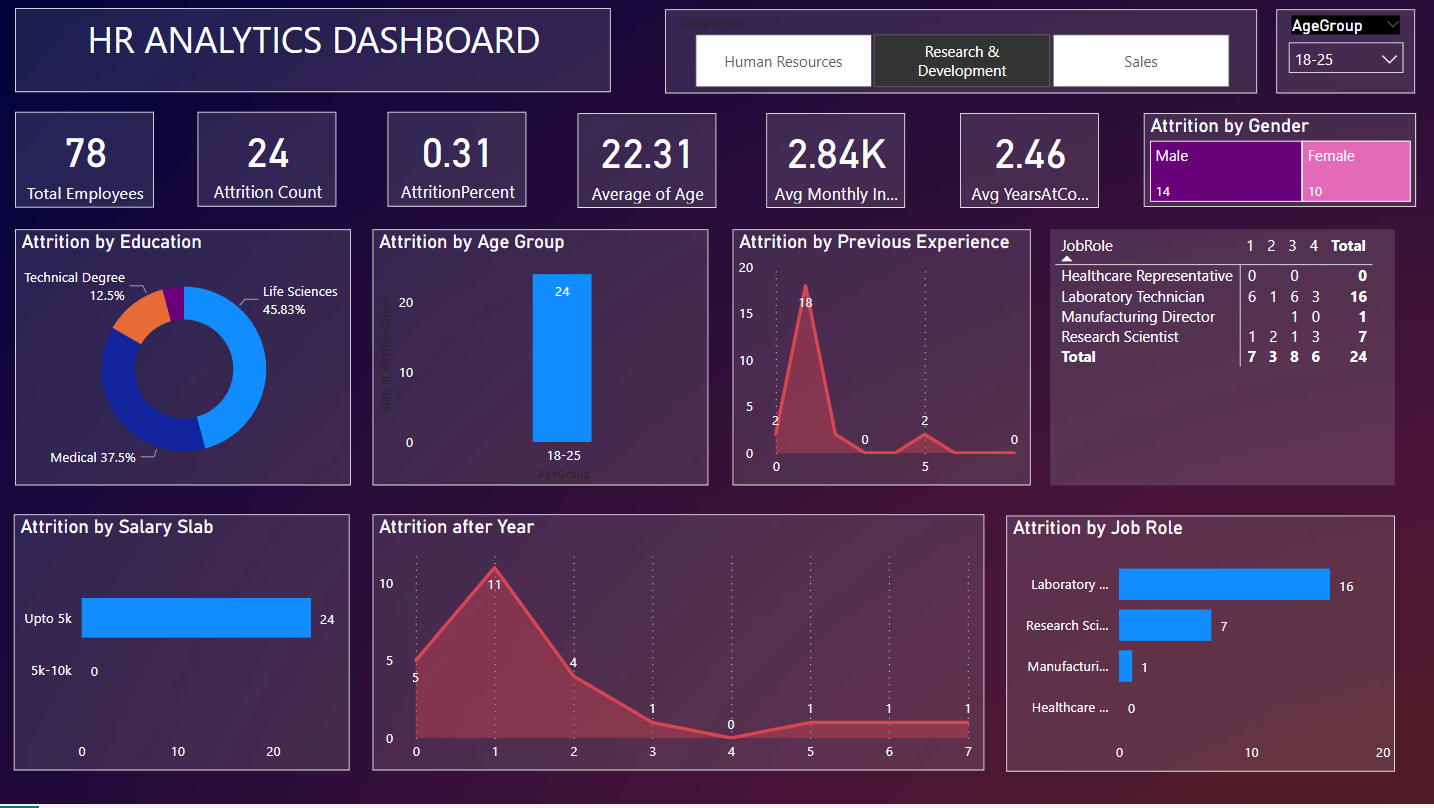

The dashboard page shown, as its layout file describes it:
{"tool":"powerbi","page":{"name":"Page 1","canvas":[1280,720],"ordinal":0},"visuals":[{"type":"card","fields":{"Values":["CountNonNull(HR_Analytics.EmpID)"]},"box":[13.9,101.1,124.3,86],"z":0},{"type":"card","fields":{"Values":["Sum(HR_Analytics.AttritionCount)"]},"box":[176.6,101.1,124.3,84.8],"z":1000},{"type":"card","fields":{"Values":["HR_Analytics.AttritionPercent"]},"box":[346.3,101.1,124.3,84.8],"z":2000},{"type":"card","fields":{"Values":["Avg(HR_Analytics.Age)"]},"box":[515.7,102.7,123.9,84.8],"z":3000},{"type":"card","fields":{"Values":["Avg(HR_Analytics.MonthlyIncome)"]},"box":[684.3,102.7,123.9,84.8],"z":4000},{"type":"card","fields":{"Values":["Avg(HR_Analytics.YearsAtCompany)"]},"box":[857.5,102.3,124.3,84.8],"z":5000},{"type":"donutChart","title":"Attrition by Education","fields":{"Category":["HR_Analytics.EducationField"],"Y":["Sum(HR_Analytics.AttritionCount)"]},"box":[13.4,206.7,300,228.9],"z":6000},{"type":"columnChart","title":"Attrition by Age Group","fields":{"Y":["Sum(HR_Analytics.AttritionCount)"],"Category":["HR_Analytics.AgeGroup"]},"box":[332.3,206.8,299.8,228.9],"z":7000},{"type":"pivotTable","fields":{"Rows":["HR_Analytics.JobRole"],"Columns":["HR_Analytics.JobSatisfaction"],"Values":["Sum(HR_Analytics.AttritionCount)"]},"box":[937.7,206.8,307.9,228.9],"z":8000},{"type":"clusteredBarChart","title":"Attrition by Salary Slab","fields":{"Category":["HR_Analytics.SalarySlab"],"Y":["Sum(HR_Analytics.AttritionCount)"]},"box":[12.8,461.3,300,228.9],"z":9000},{"type":"barChart","title":"Attrition by Job Role","fields":{"Category":["HR_Analytics.JobRole"],"Y":["Sum(HR_Analytics.AttritionCount)"]},"box":[898.2,462.5,347.4,228.9],"z":10000},{"type":"areaChart","title":"Attrition after Year","fields":{"Y":["Sum(HR_Analytics.AttritionCount)"],"Category":["HR_Analytics.YearsAtCompany"]},"box":[332.3,461.3,546.1,228.9],"z":11000},{"type":"treemap","title":"Attrition by Gender","fields":{"Group":["HR_Analytics.Gender","HR_Analytics.YearsAtCompany"],"Values":["Sum(HR_Analytics.AttritionCount)"]},"box":[1021.4,102.3,242.8,83.7],"z":12000},{"type":"slicer","fields":{"Values":["HR_Analytics.Department"]},"box":[593.8,10.5,528.7,75.5],"z":13000},{"type":"slicer","fields":{"Values":["HR_Analytics.AgeGroup"]},"box":[1139.9,10.5,124.3,75.5],"z":14000},{"type":"textbox","box":[13.9,9.3,532.2,75.5],"z":15000},{"type":"areaChart","title":"Attrition  by Previous Experience","fields":{"Y":["Sum(HR_Analytics.AttritionCount)"],"Category":["HR_Analytics.NumCompaniesWorked"]},"box":[654.2,206.8,266.1,228.9],"z":15001}]}

Visuals, with their boxes in screenshot pixels (x1, y1, x2, y2), scaled from the page's 1280x720 canvas onto the 1434x808 screenshot:
card - CountNonNull(HR_Analytics.EmpID): 16/113/155/210
card - Sum(HR_Analytics.AttritionCount): 198/113/337/209
card - HR_Analytics.AttritionPercent: 388/113/527/209
card - Avg(HR_Analytics.Age): 578/115/717/210
card - Avg(HR_Analytics.MonthlyIncome): 767/115/905/210
card - Avg(HR_Analytics.YearsAtCompany): 961/115/1100/210
"Attrition by Education" donutChart: 15/232/351/489
"Attrition by Age Group" columnChart: 372/232/708/489
pivotTable - HR_Analytics.JobRole x HR_Analytics.JobSatisfaction: 1051/232/1395/489
"Attrition by Salary Slab" clusteredBarChart: 14/518/350/775
"Attrition by Job Role" barChart: 1006/519/1395/776
"Attrition after Year" areaChart: 372/518/984/775
"Attrition by Gender" treemap: 1144/115/1416/209
slicer - HR_Analytics.Department: 665/12/1258/97
slicer - HR_Analytics.AgeGroup: 1277/12/1416/97
textbox: 16/10/612/95
"Attrition  by Previous Experience" areaChart: 733/232/1031/489
